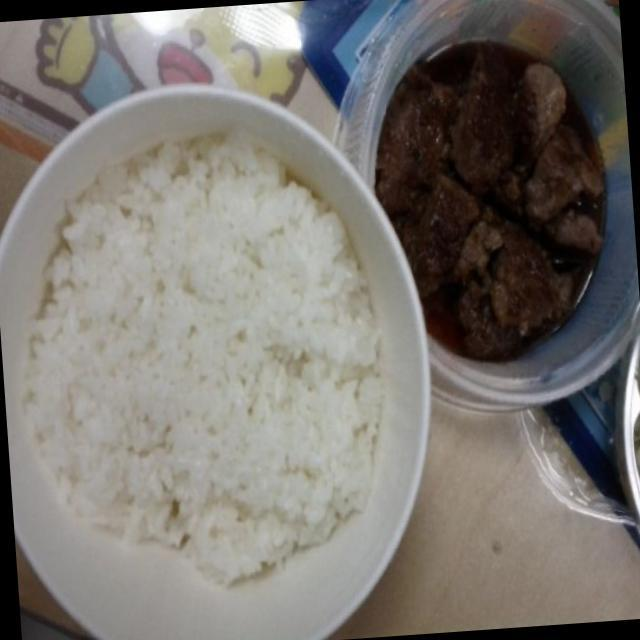Rice: (21, 126, 378, 582)
